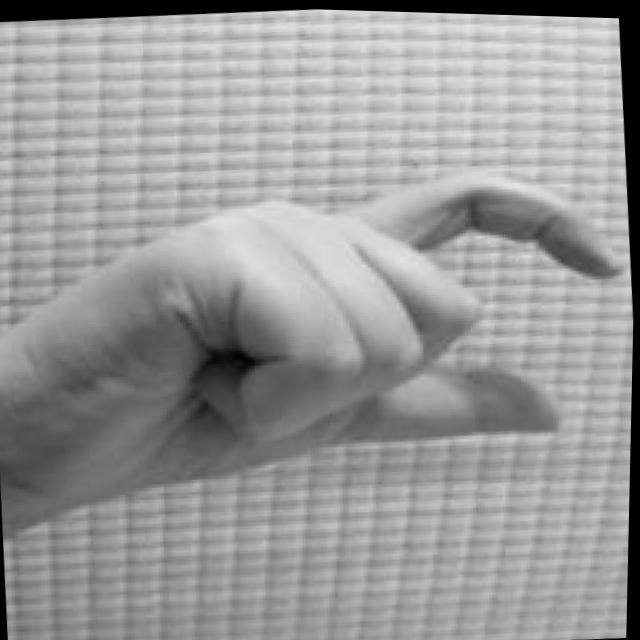C: (58, 148, 637, 531)
